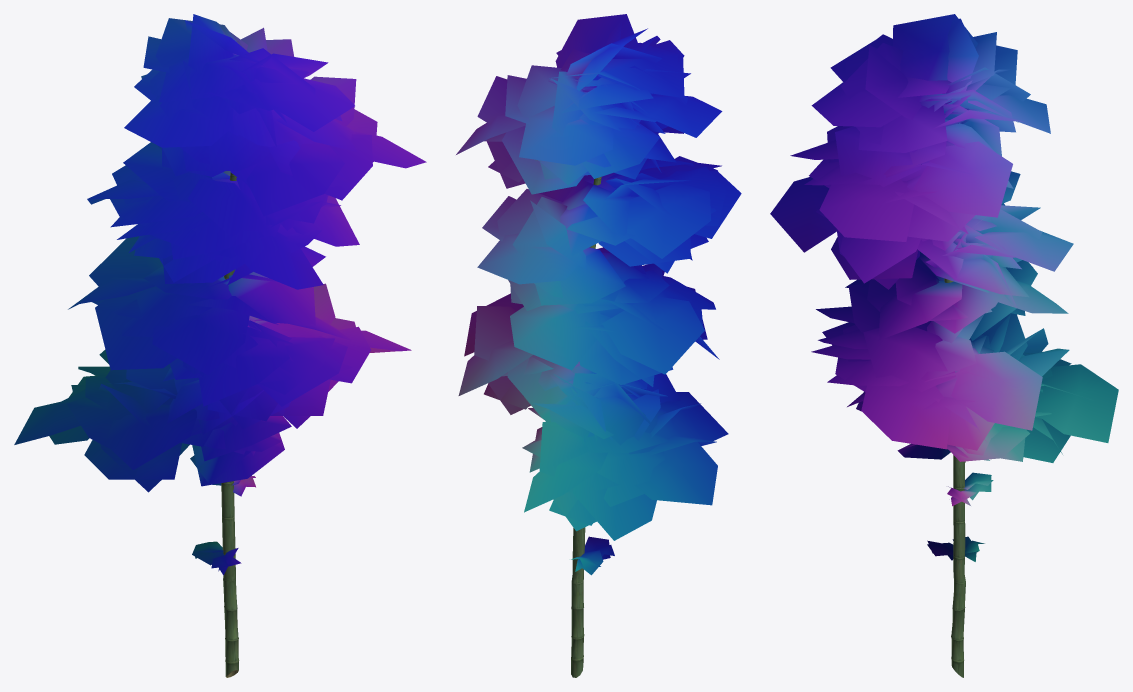
Rendered from SM_EastLands_Bamboo_Medium_01_Trunk.fbx.
The picture shows the model from 3 angles, left to right: view 1: azimuth 30°, elevation 25°; view 2: azimuth 150°, elevation 25°; view 3: azimuth 270°, elevation 25°; orthographic projection. The views are drawn at different scales.
Visible parts, largest first — view 1: SM_EastLands_Bamboo_Medium_01_Trunk_LOD0; view 2: SM_EastLands_Bamboo_Medium_01_Trunk_LOD0; view 3: SM_EastLands_Bamboo_Medium_01_Trunk_LOD0.
Boxes of the visible parts, x1,y1,x2,y2 form: SM_EastLands_Bamboo_Medium_01_Trunk_LOD0: (14,14,426,677); SM_EastLands_Bamboo_Medium_01_Trunk_LOD0: (456,14,741,677); SM_EastLands_Bamboo_Medium_01_Trunk_LOD0: (770,14,1118,677).
Size of the model in its own units: 717 by 1419 by 699.
